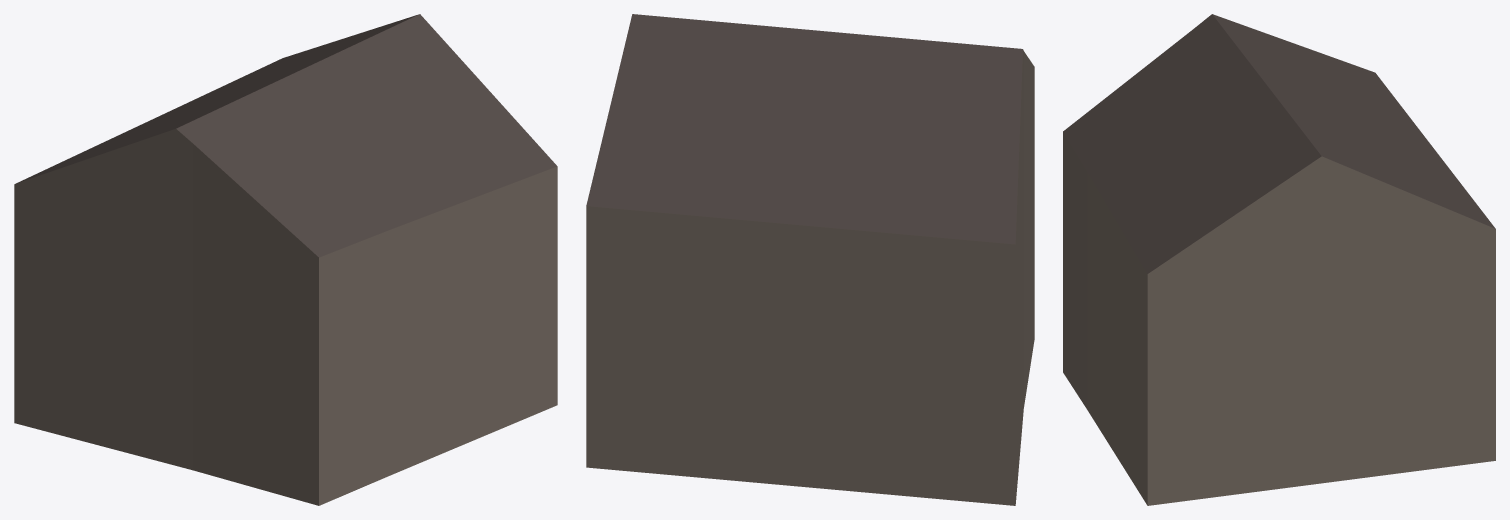
3 views of the same model, side by side, from view 1: azimuth 30°, elevation 25°; view 2: azimuth 150°, elevation 25°; view 3: azimuth 270°, elevation 25° (orthographic). The views are drawn at different scales.
Parts seen in each view (by area): view 1: HP-w1513026713; view 2: HP-w1513026713; view 3: HP-w1513026713.
Boxes of the visible parts, x1=… form: HP-w1513026713: x1=14, y1=14, x2=557, y2=505; HP-w1513026713: x1=586, y1=14, x2=1034, y2=505; HP-w1513026713: x1=1063, y1=14, x2=1495, y2=505.
Bounding box in the file's own units: 11.19 × 8.47 × 10.16.
